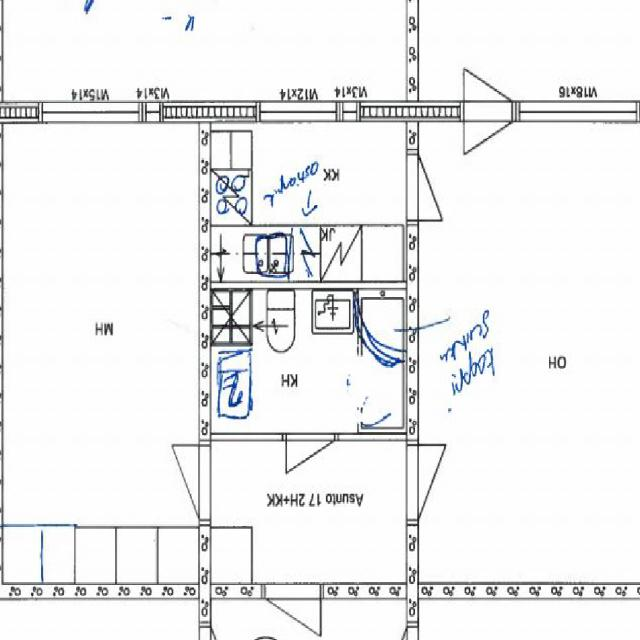door: (407, 445, 474, 521), (145, 445, 211, 519), (464, 102, 513, 188), (464, 36, 513, 122), (407, 154, 467, 220), (286, 433, 335, 507)
